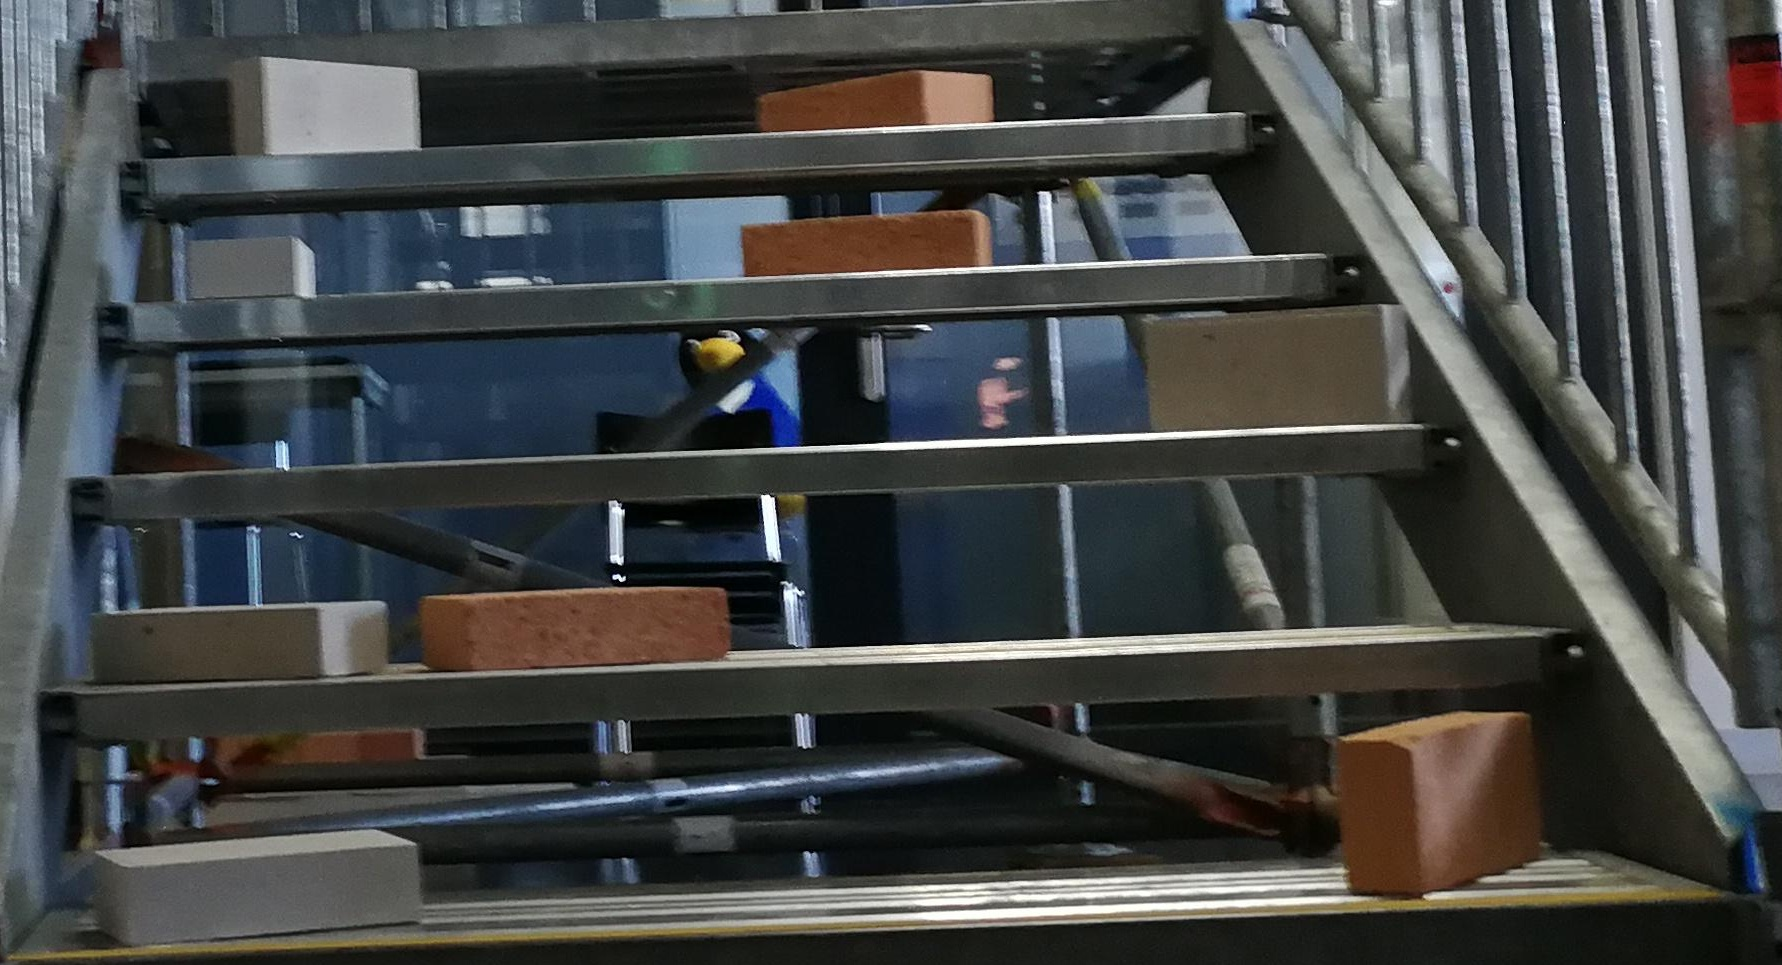brick: (1339, 711, 1538, 898), (97, 830, 413, 947), (1146, 305, 1410, 422), (422, 585, 728, 671), (95, 601, 386, 673), (229, 59, 417, 150), (742, 208, 991, 271), (758, 72, 991, 122), (187, 236, 314, 294)
edge: (52, 633, 1590, 739), (80, 422, 1458, 523), (17, 895, 1737, 965), (95, 256, 1363, 342), (126, 112, 1285, 193)
